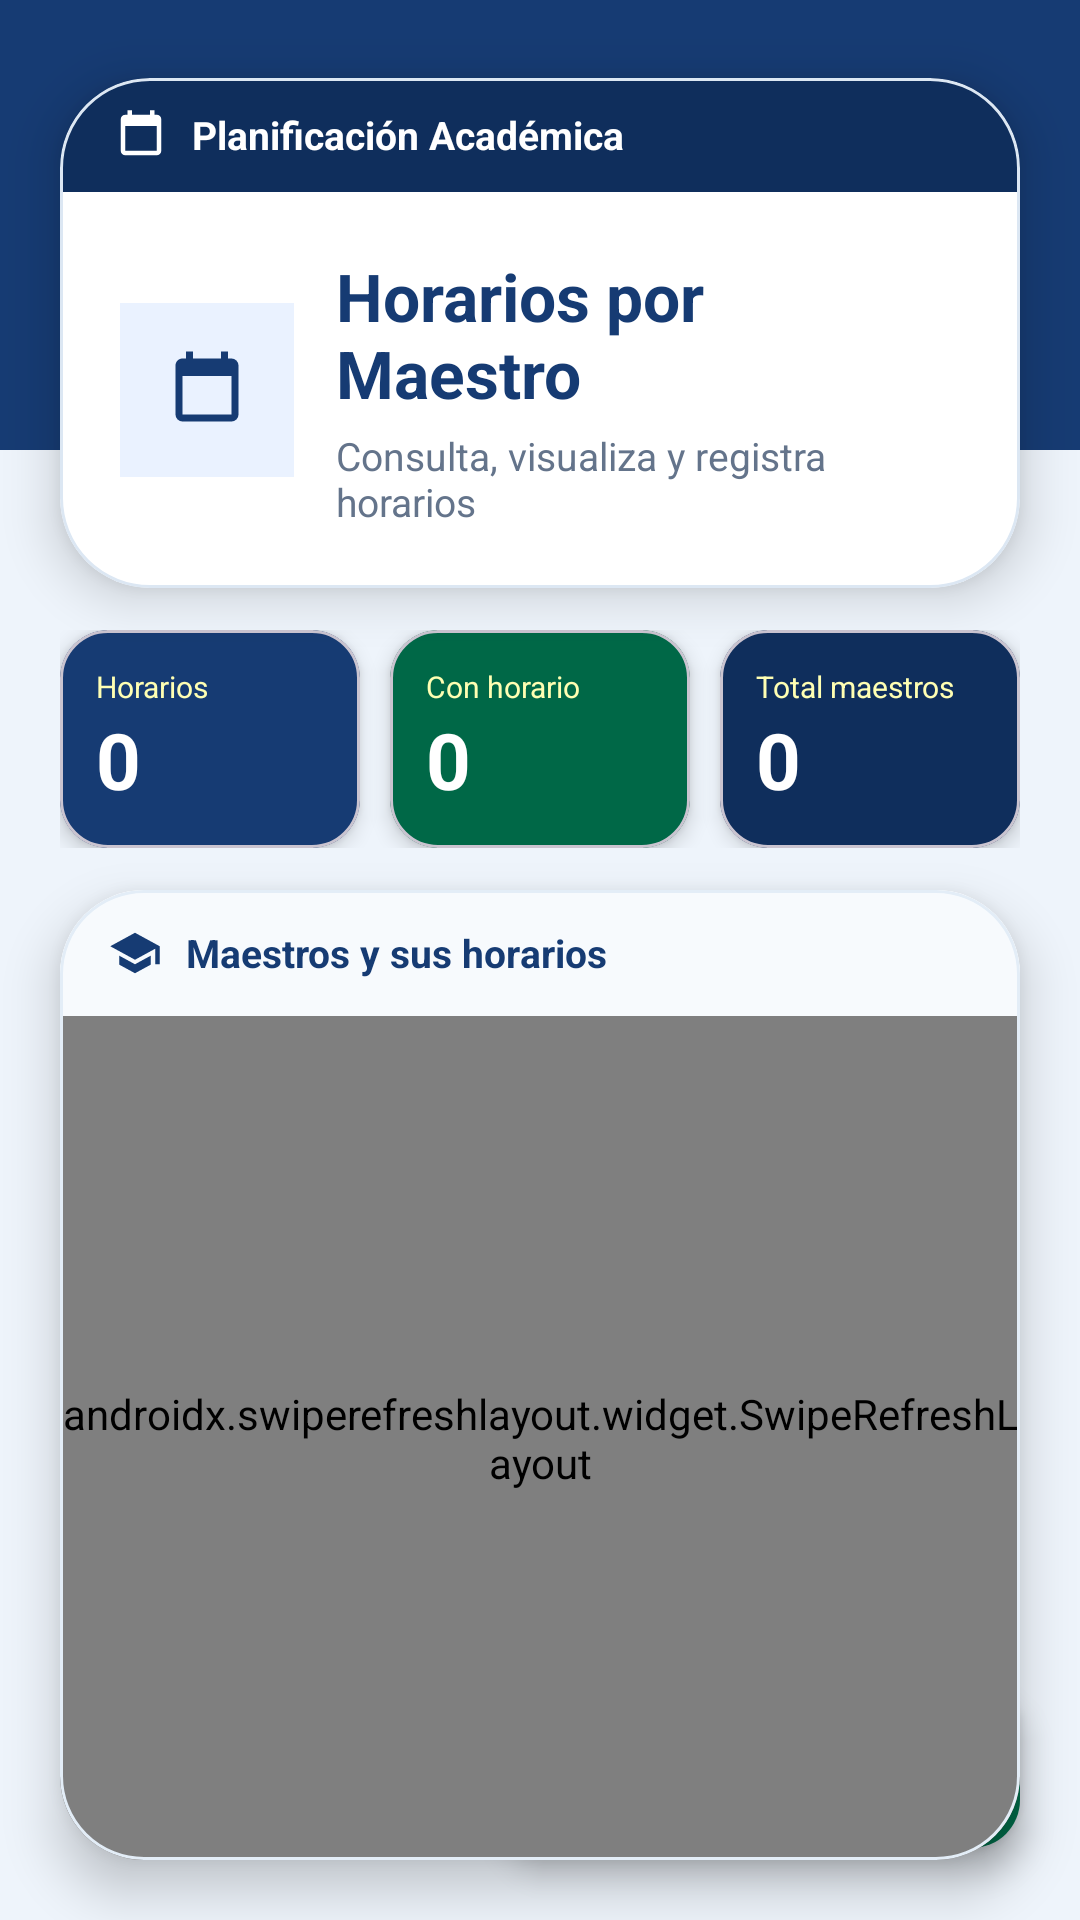

Icon bounding boxes for this 1080×1920 phone screenshot, format [x1, y1, x2, y2]:
calendar: [120, 110, 162, 156], [175, 351, 239, 422]
graduate: [110, 933, 160, 973]
